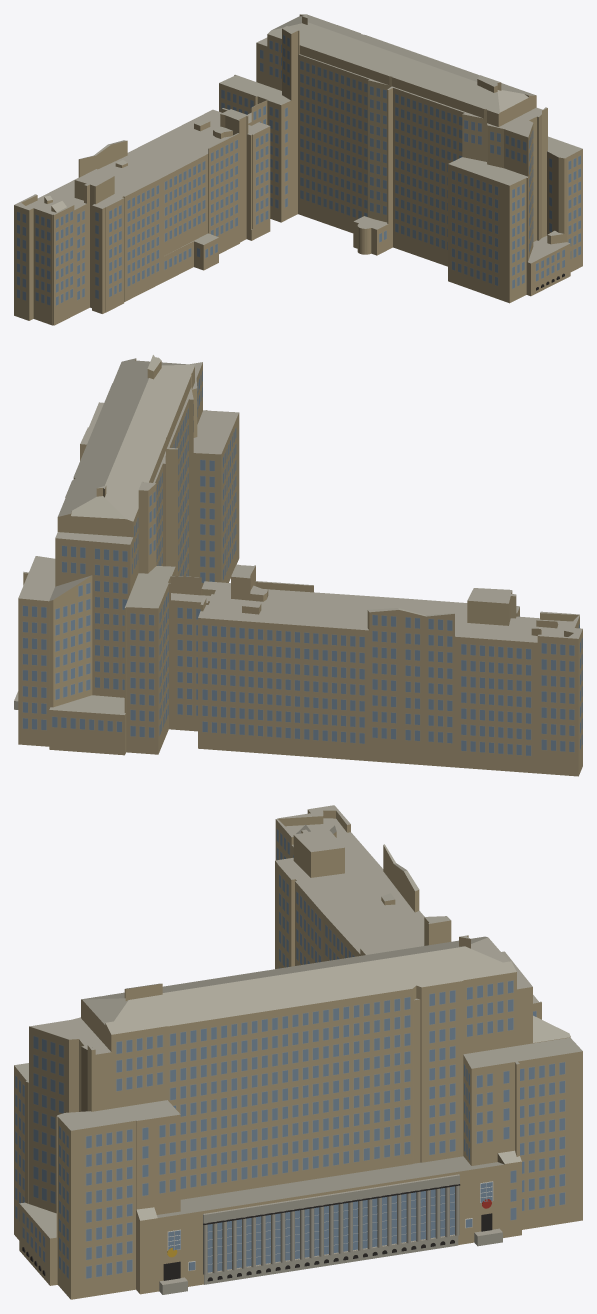
The model's file is kohnstammhuis.glb.
3 renders of one model, top to bottom at view 1: azimuth 30°, elevation 25°; view 2: azimuth 150°, elevation 25°; view 3: azimuth 270°, elevation 25°, orthographic. The views are drawn at different scales.
Visible parts, largest first — view 1: kohnstammhuis; view 2: kohnstammhuis; view 3: kohnstammhuis.
Boxes of the visible parts, <box> form: kohnstammhuis: <box>14,14,582,325</box>; kohnstammhuis: <box>14,355,582,776</box>; kohnstammhuis: <box>14,805,582,1299</box>.
Size of the model in its own units: 135 by 50.15 by 97.03.
